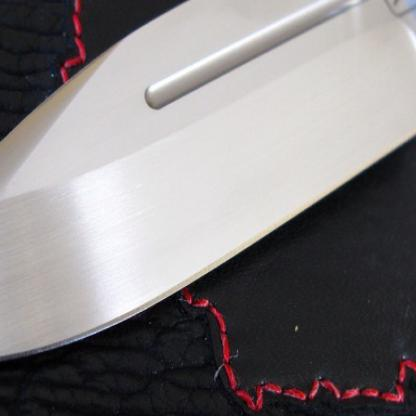knife: (0, 0, 415, 373)
